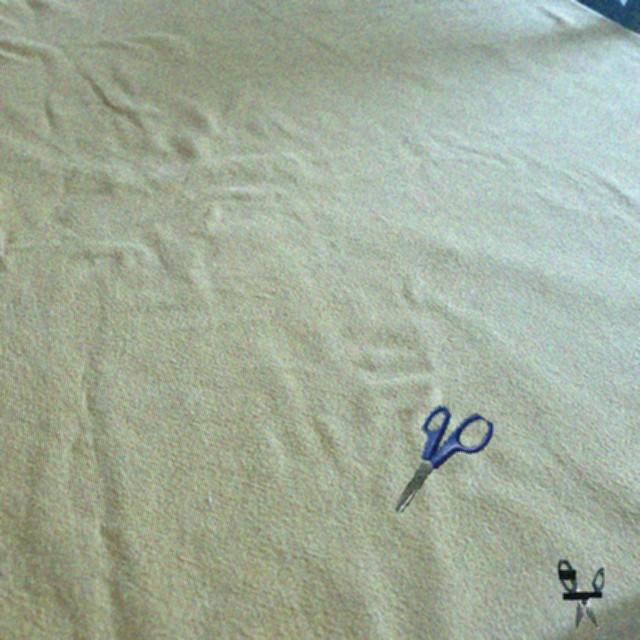scissors: (395, 406, 493, 513), (558, 560, 604, 628)
